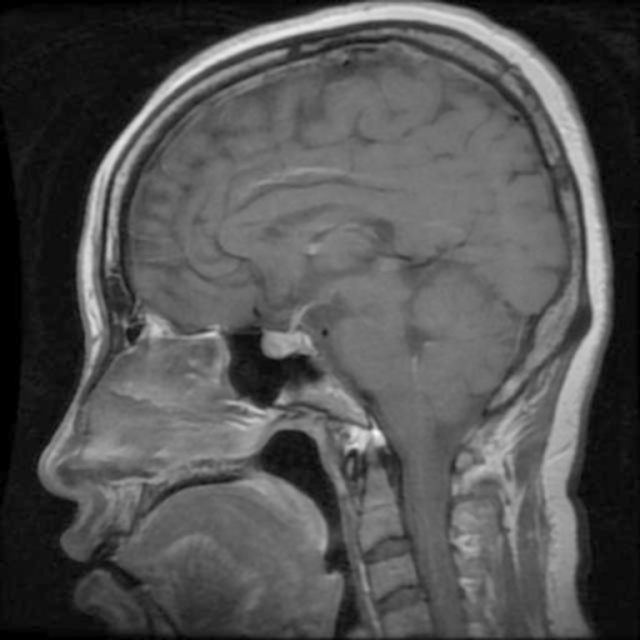no tumor: (262, 324, 322, 366)
